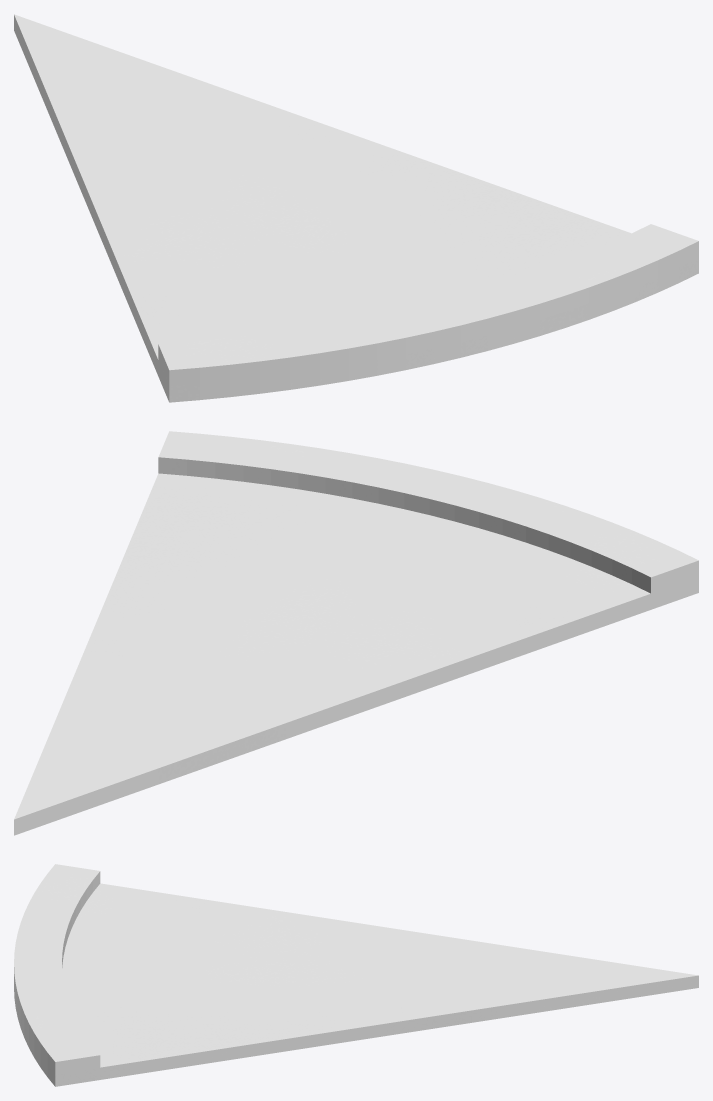
The model's file is wedge40.gltf.
3 views of the same model, one above another, from view 1: azimuth 30°, elevation 25°; view 2: azimuth 150°, elevation 25°; view 3: azimuth 270°, elevation 25° (orthographic). The views are drawn at different scales.
Visible parts, largest first — view 1: jx_wedge40; view 2: jx_wedge40; view 3: jx_wedge40.
Part boxes in pixels (x1,y1,x2,y2): jx_wedge40: [14, 14, 698, 402]; jx_wedge40: [14, 431, 698, 835]; jx_wedge40: [14, 864, 698, 1086].
Bounding box in the file's own units: 0.684 × 0.04 × 1.
Materials: 1 (1 with a texture image).
